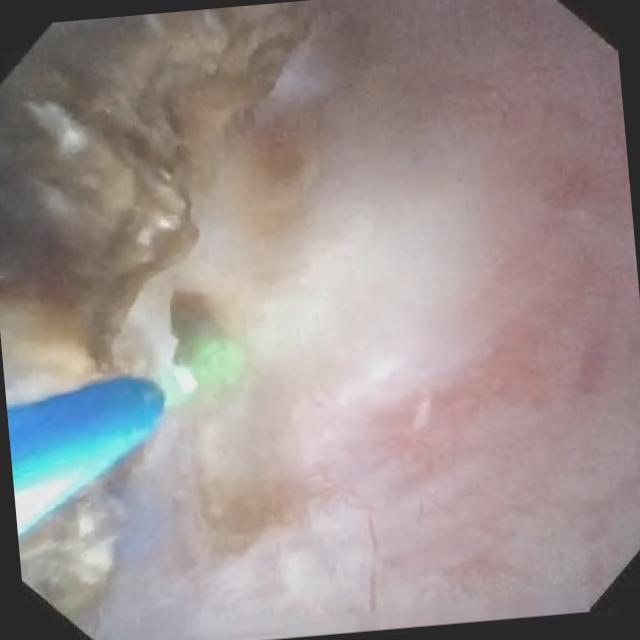laser-fibre: (158, 367, 195, 409)
laser_dot: (206, 344, 244, 382)
stone-new: (0, 1, 313, 403), (19, 482, 115, 618), (169, 293, 226, 368), (254, 125, 305, 190)
